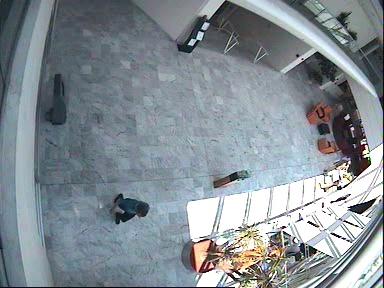person: (111, 193, 150, 225), (319, 175, 353, 191), (323, 159, 352, 175)
